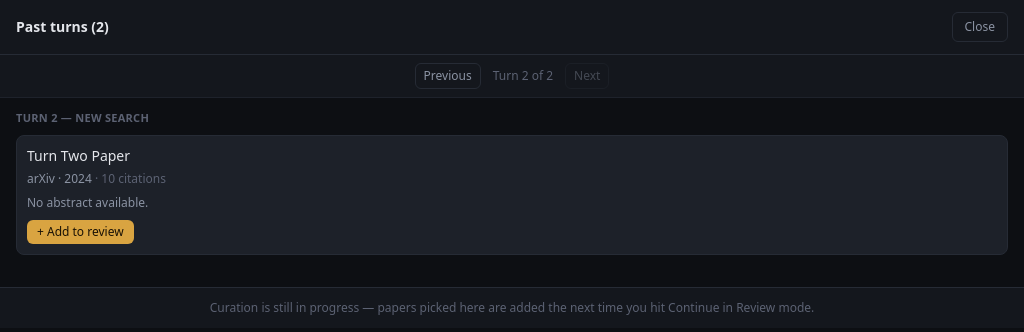
Test: TurnHistoryBrowser › Previous switches to the older turn; Next switches back to the newer one
The width and height of the screenshot is (1024, 332).
Expected: the button with test id "turn-history-next" is disabled, [565,63,609,89]
Step 1. Click the button with test id "turn-history-prev" → (448, 76), box [415,63,481,89]
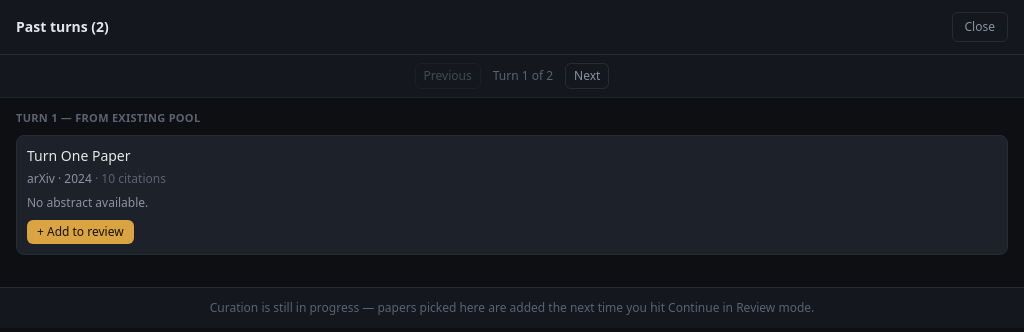
Now the text with test id "turn-history-position" reads "Turn 1 of 2", box [493,68,553,84]
Now the text "Turn One Paper" is shown, box [27,146,130,164]
Now the text "Turn Two Paper" is gone
Step 2. Click the button with test id "turn-history-next" → (587, 76), box [565,63,609,89]
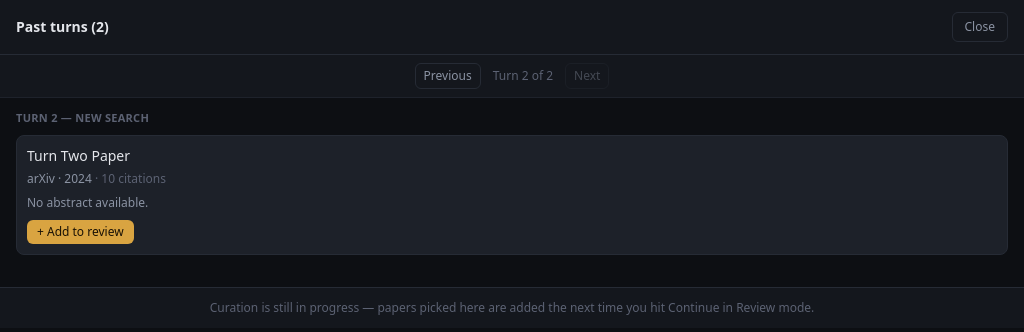
Now the text with test id "turn-history-position" reads "Turn 2 of 2", box [493,68,553,84]
Now the text "Turn Two Paper" is shown, box [27,146,130,164]
Now the text "Turn One Paper" is gone
